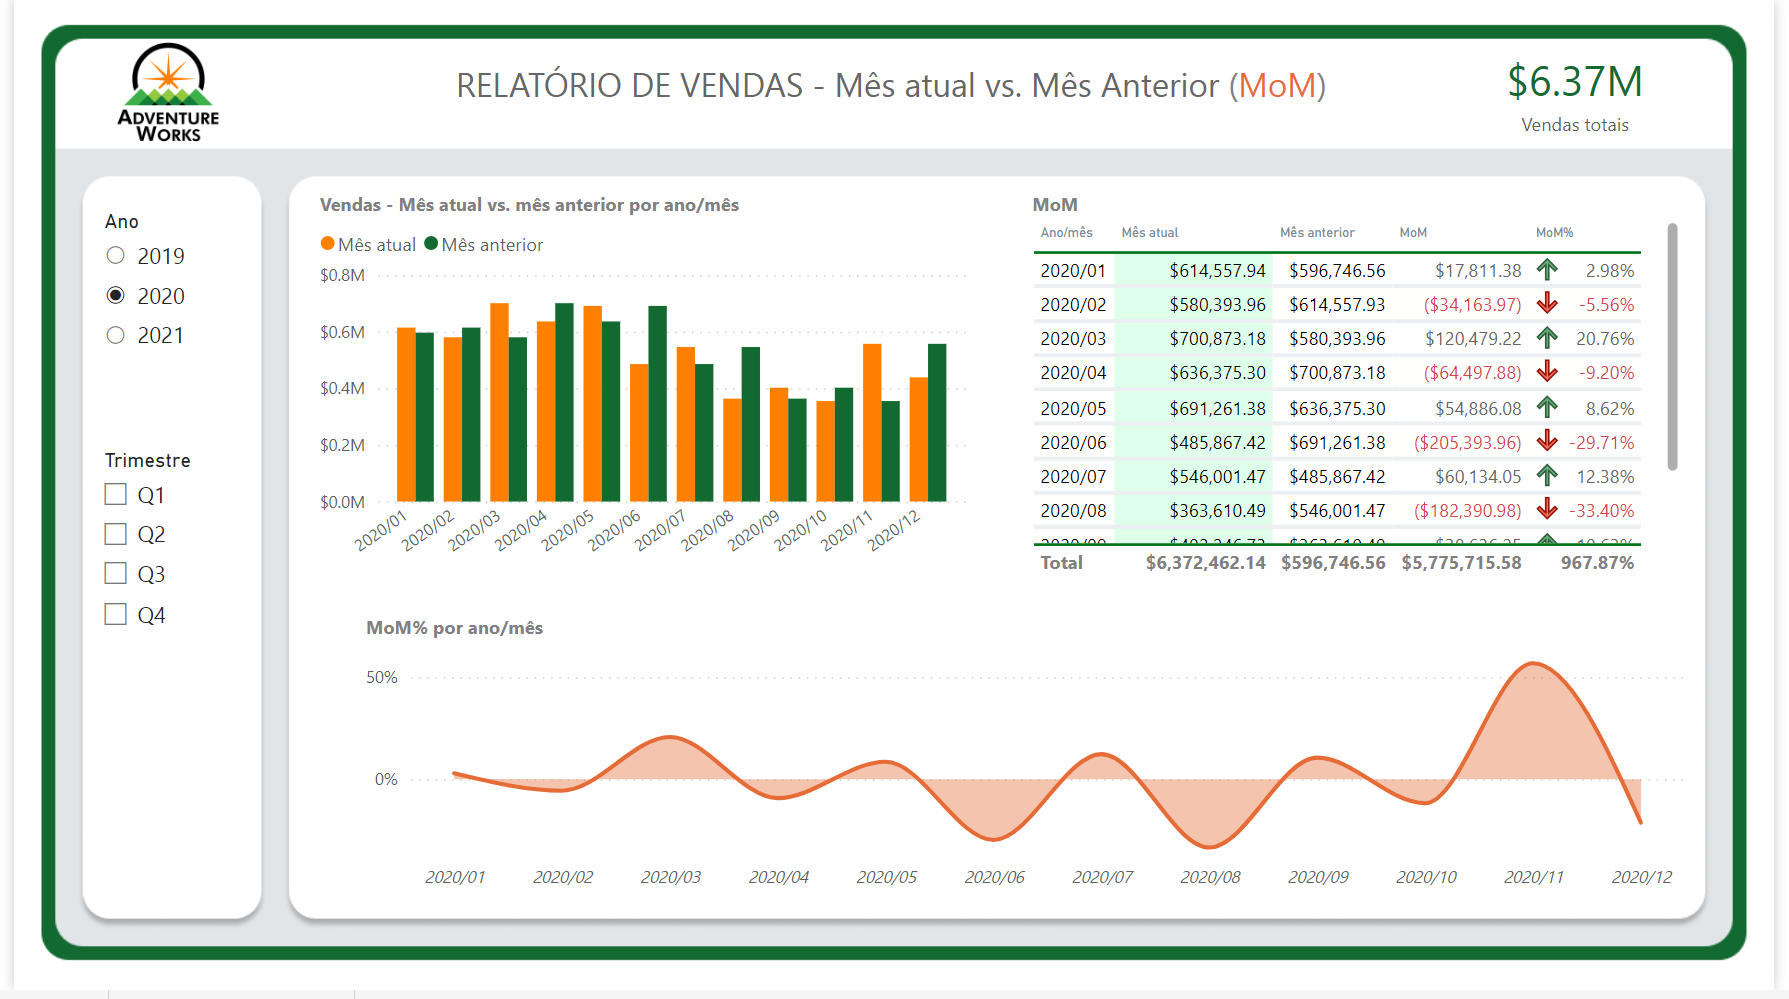

The page's visual inventory and layout, read from the dashboard file:
{"tool":"powerbi","page":{"name":"MoM","canvas":[1280,720],"ordinal":0},"visuals":[{"type":"tableEx","title":"MoM","fields":{"Values":["DimDate.YearMonthnumber","Sales.Sales","Sales.PM","Sales.MoM","Sales.MoM%"]},"box":[735.7,138.7,480,284.6],"z":0},{"type":"clusteredColumnChart","title":"Vendas - Mês atual vs. mês anterior por ano/mês","fields":{"Category":["DimDate.YearMonthnumber"],"Y":["Sales.Sales","Sales.PM"]},"box":[217.1,138.7,480,284.6],"z":1000},{"type":"textbox","box":[32.6,39.8,1210.9,54.3],"z":2000},{"type":"image","box":[53.1,21.7,119.4,94.1],"z":3000},{"type":"areaChart","title":"MoM% por ano/mês","fields":{"Category":["DimDate.YearMonthnumber"],"Y":["Sales.MoM%"]},"box":[251.1,446.7,968.9,210],"z":4000},{"type":"slicer","fields":{"Values":["DimDate.Year"]},"box":[53.1,147.1,119.4,117],"z":5000},{"type":"slicer","fields":{"Values":["DimDate.Quarter"]},"box":[53.1,320.8,119.4,185.7],"z":6000},{"type":"card","fields":{"Values":["Sales.Sales Actual"]},"box":[1050.5,30.2,171.3,74.8],"z":7000}]}

Visuals, with their boxes in screenshot pixels (x1, y1, x2, y2), scaled from the page's 1280x720 canvas onto the 1789x999 screenshot:
"MoM" tableEx: BBox(1028, 192, 1699, 587)
"Vendas - Mês atual vs. mês anterior por ano/mês" clusteredColumnChart: BBox(303, 192, 974, 587)
textbox: BBox(46, 55, 1738, 131)
image: BBox(74, 30, 241, 161)
"MoM% por ano/mês" areaChart: BBox(351, 620, 1705, 911)
slicer - DimDate.Year: BBox(74, 204, 241, 366)
slicer - DimDate.Quarter: BBox(74, 445, 241, 703)
card - Sales.Sales Actual: BBox(1468, 42, 1708, 146)
